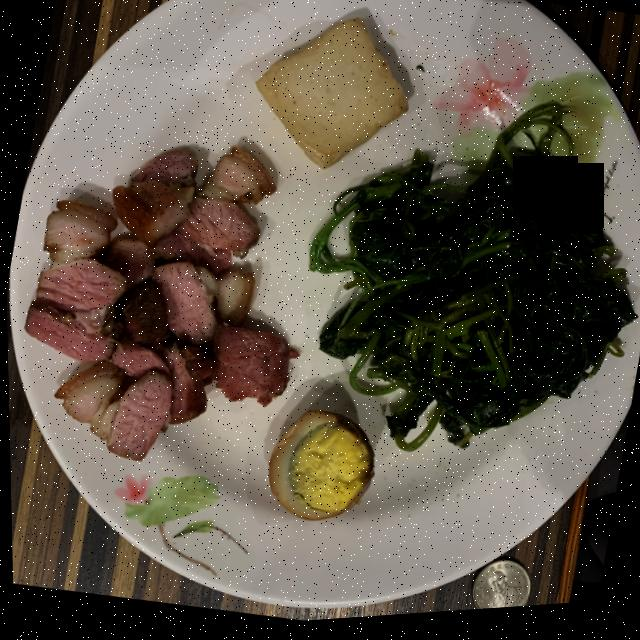coin: (469, 565, 528, 616)
creamy tofu -without sauce-: (255, 22, 408, 173)
grilled pork: (23, 150, 295, 462)
soy egg: (266, 414, 372, 524)
sweet potato leaves: (308, 110, 634, 456)
